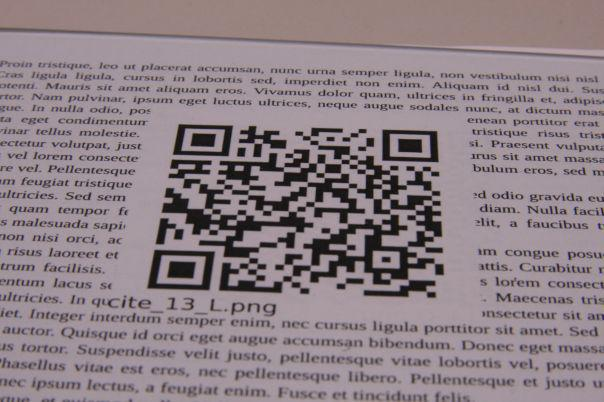Finder pattern: (141, 246, 220, 296), (376, 125, 446, 171), (170, 121, 235, 161)
